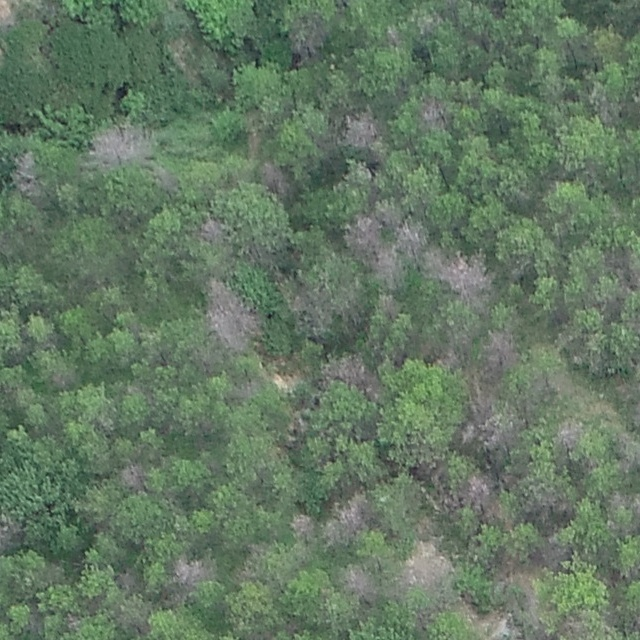unhealthy: (341, 213, 402, 289), (205, 275, 264, 353), (84, 119, 160, 169), (439, 245, 497, 310), (278, 273, 336, 337), (325, 349, 382, 400), (333, 105, 386, 157), (401, 540, 455, 587), (458, 407, 513, 452), (288, 9, 331, 56), (481, 326, 524, 373), (6, 147, 44, 199), (522, 484, 574, 521), (392, 220, 434, 259), (329, 492, 367, 535), (589, 80, 623, 128), (258, 156, 291, 200), (234, 542, 269, 582), (338, 563, 378, 597), (550, 413, 584, 448), (462, 470, 494, 507), (198, 214, 234, 245), (172, 555, 205, 588), (406, 6, 444, 34), (370, 195, 406, 224), (418, 95, 448, 129), (616, 427, 640, 468), (155, 165, 184, 196), (116, 459, 145, 489), (374, 291, 403, 320), (289, 514, 316, 543), (230, 377, 263, 399), (114, 568, 138, 591), (385, 23, 398, 47)
